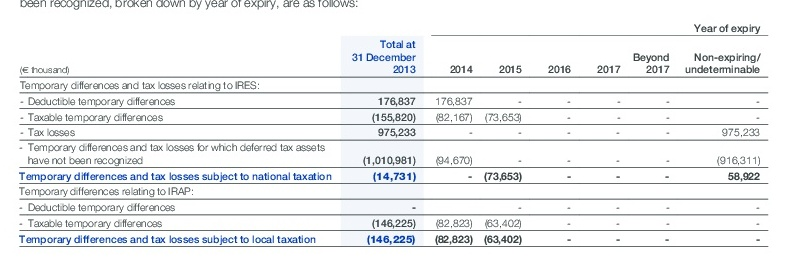table: (0, 0, 789, 263)
